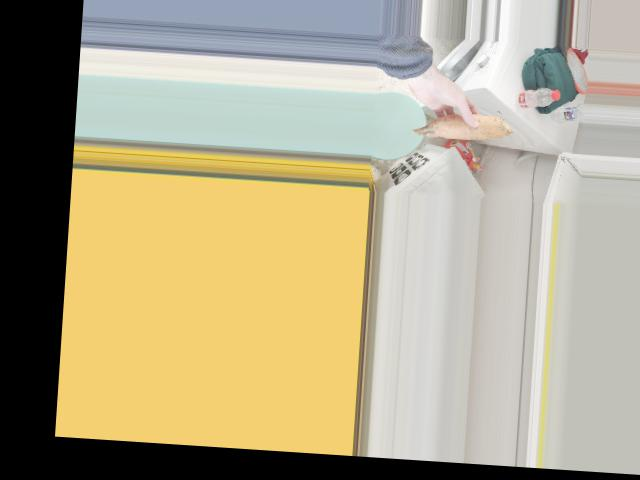sweet_potato: (419, 106, 506, 144)
